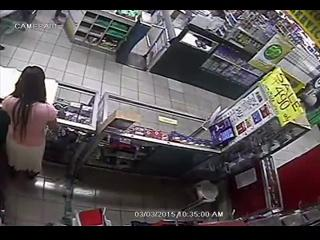Normal: (1, 65, 58, 181)
